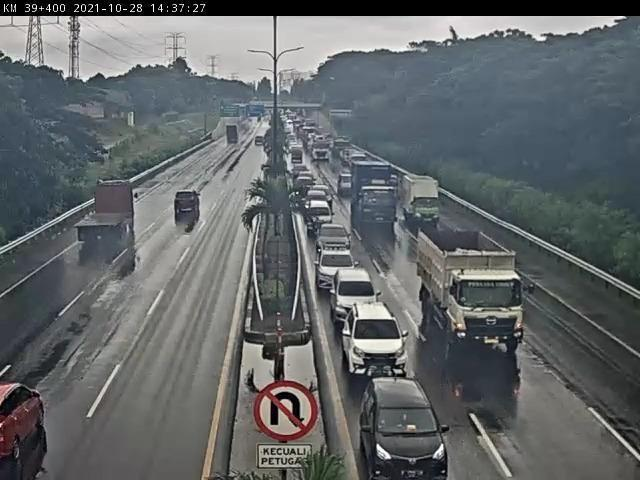car: (359, 379, 455, 480), (341, 302, 407, 381), (333, 268, 381, 328), (313, 248, 359, 295), (317, 222, 355, 257), (305, 198, 334, 234), (175, 193, 203, 217)
truck: (419, 232, 537, 355), (77, 182, 141, 245), (349, 160, 397, 228), (404, 174, 443, 228)
